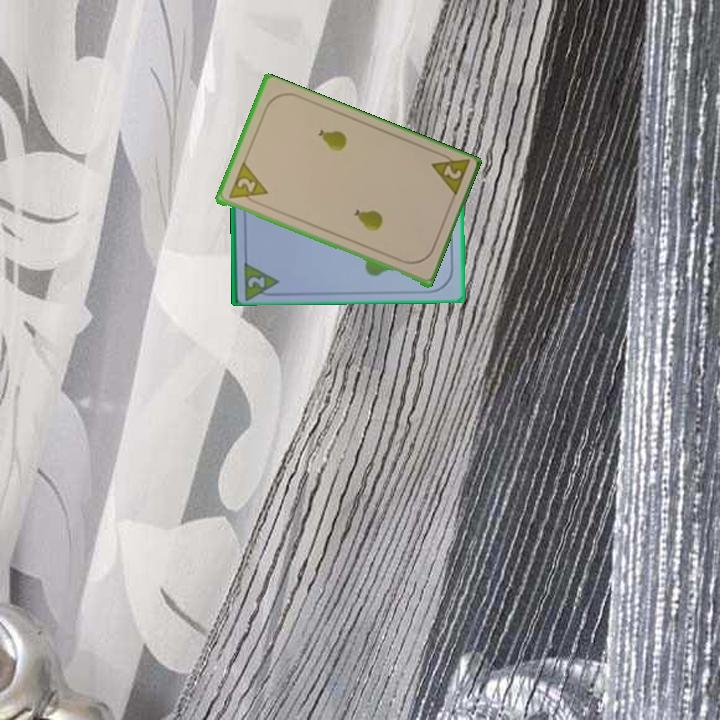2p: (427, 148, 472, 201), (224, 160, 270, 208), (244, 273, 268, 290)
